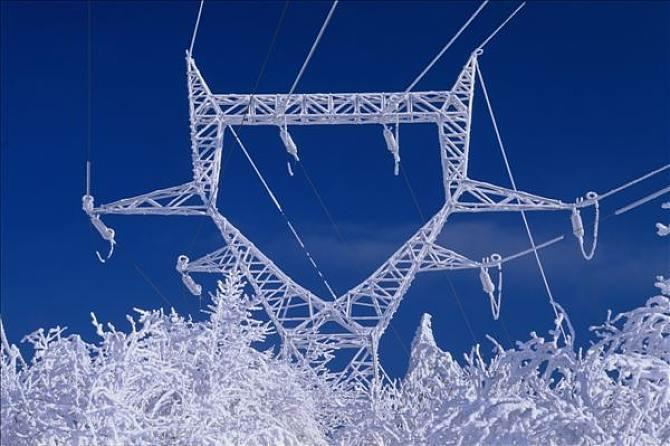power_tower: (96, 29, 608, 364)
